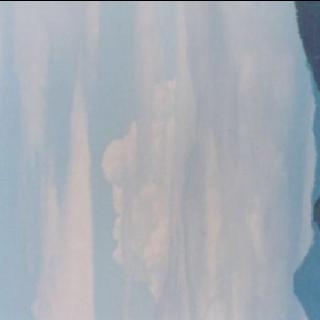Stratocumulus: (0, 0, 286, 320)
